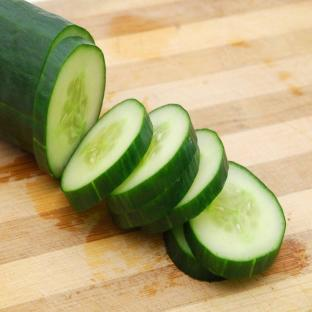Cucumber: (0, 0, 93, 152), (184, 162, 285, 278), (33, 38, 105, 178), (61, 100, 152, 210), (107, 105, 197, 213), (143, 130, 228, 232), (111, 148, 199, 228), (164, 225, 224, 281)
